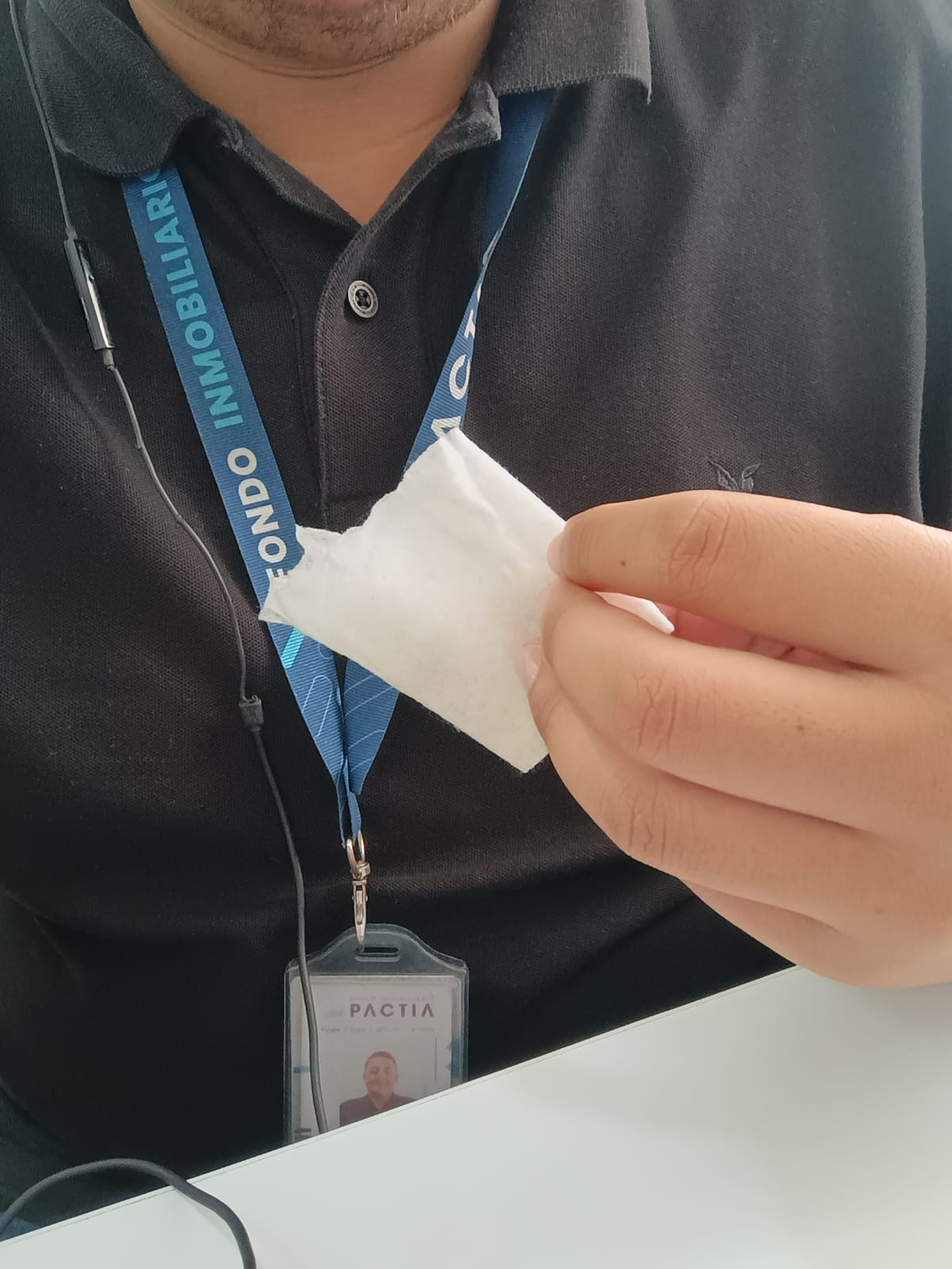Ordinario: (257, 432, 605, 775)
